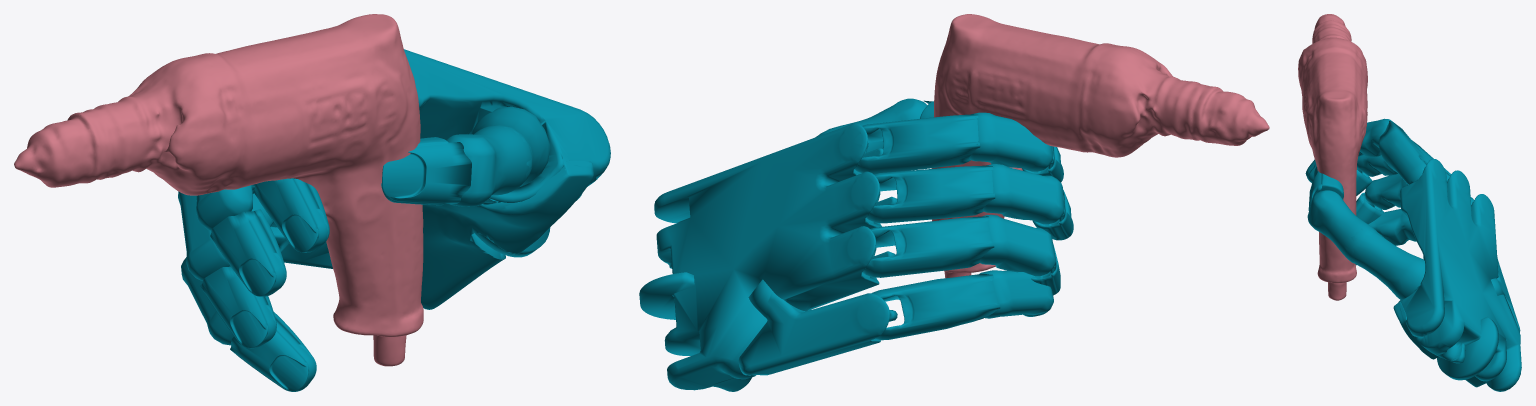
The picture shows the model from 3 angles, left to right: view 1: azimuth 30°, elevation 25°; view 2: azimuth 150°, elevation 25°; view 3: azimuth 270°, elevation 25°; orthographic projection. The views are drawn at different scales.
Visible parts, largest first — view 1: world; view 2: world; view 3: world.
Part boxes in pixels (left/top/right/bottom): world: left=14, top=14, right=610, bottom=391; world: left=639, top=14, right=1269, bottom=391; world: left=1298, top=14, right=1521, bottom=391.
Bounding box in the file's own units: 0.2476 × 0.1483 × 0.1225.
